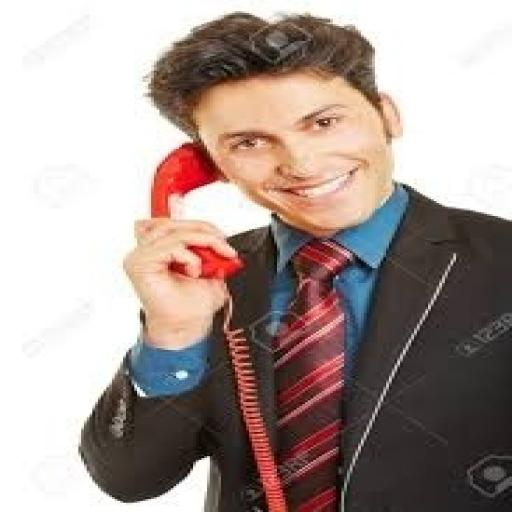calling: (76, 9, 509, 510)
